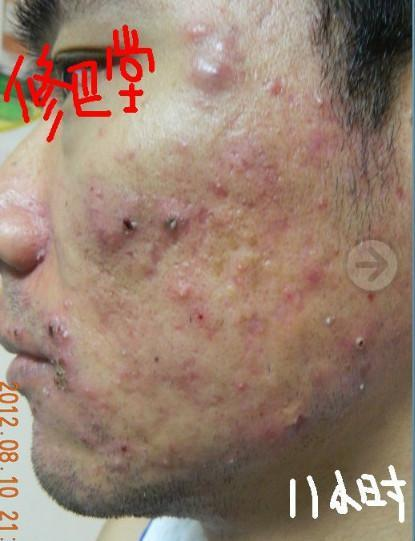fore: (171, 342, 212, 393), (266, 399, 312, 437), (224, 149, 264, 188), (38, 365, 81, 401), (197, 59, 243, 92), (84, 220, 127, 254), (296, 366, 327, 413), (300, 135, 340, 168), (313, 307, 350, 342), (164, 197, 197, 236), (181, 301, 224, 330), (114, 202, 146, 236), (145, 448, 179, 477), (75, 415, 101, 451), (242, 316, 279, 340), (115, 364, 140, 399), (129, 248, 157, 279), (236, 248, 261, 281), (12, 285, 39, 315), (165, 277, 194, 304), (256, 74, 280, 106), (206, 179, 241, 200), (289, 252, 313, 281), (104, 457, 128, 486), (270, 209, 294, 237), (110, 436, 140, 458), (131, 421, 156, 447), (230, 369, 249, 403), (49, 313, 71, 342), (212, 33, 239, 56), (23, 401, 48, 424), (273, 289, 295, 315), (27, 244, 53, 266), (388, 177, 409, 203), (185, 20, 210, 41), (167, 316, 192, 337), (345, 334, 369, 355), (171, 133, 192, 157), (355, 371, 374, 397), (55, 293, 77, 314), (77, 381, 97, 404), (126, 447, 143, 474), (311, 89, 328, 116), (82, 199, 106, 218), (219, 285, 241, 305), (91, 395, 112, 415), (31, 200, 50, 221), (362, 286, 381, 307), (211, 2, 232, 21), (243, 227, 262, 247), (87, 182, 108, 200), (89, 460, 107, 480), (200, 208, 220, 226), (230, 203, 249, 221), (113, 342, 133, 359), (111, 290, 127, 311), (327, 241, 346, 258), (224, 450, 239, 470), (315, 191, 328, 212), (93, 125, 108, 143), (107, 441, 111, 448)
